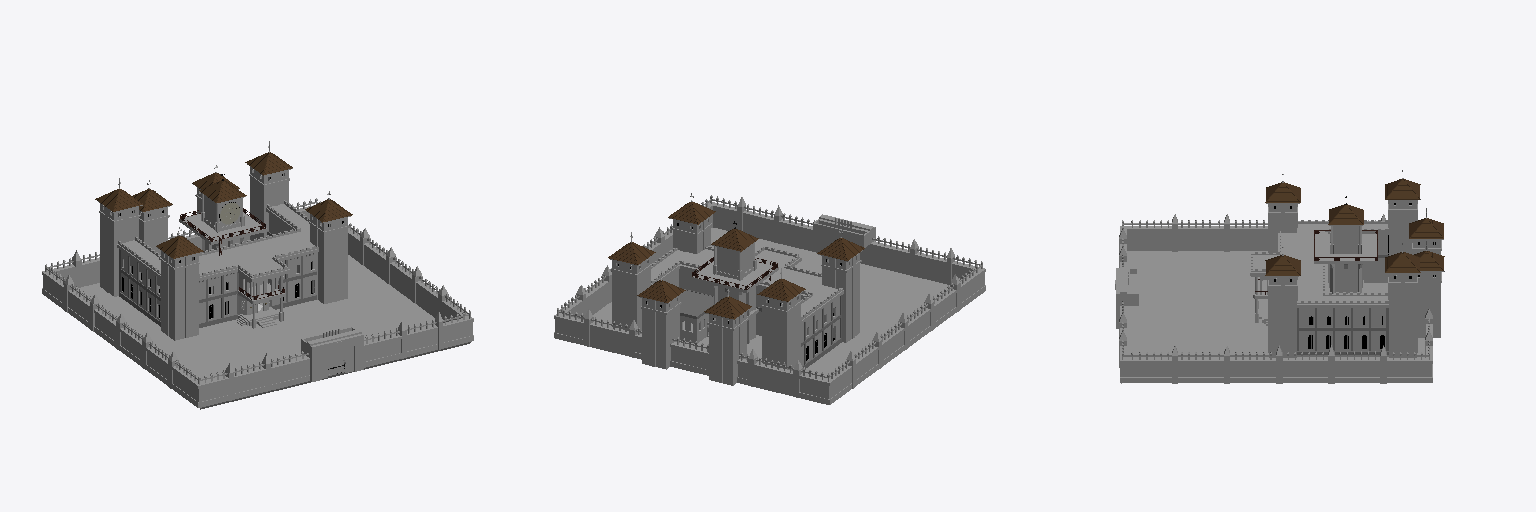
Rendered from terrain.obj.
The picture shows the model from 3 angles: view 1: azimuth 30°, elevation 25°; view 2: azimuth 150°, elevation 25°; view 3: azimuth 270°, elevation 25°; orthographic projection.
Bounding box in the file's own units: 79.82 × 34.61 × 82.21.